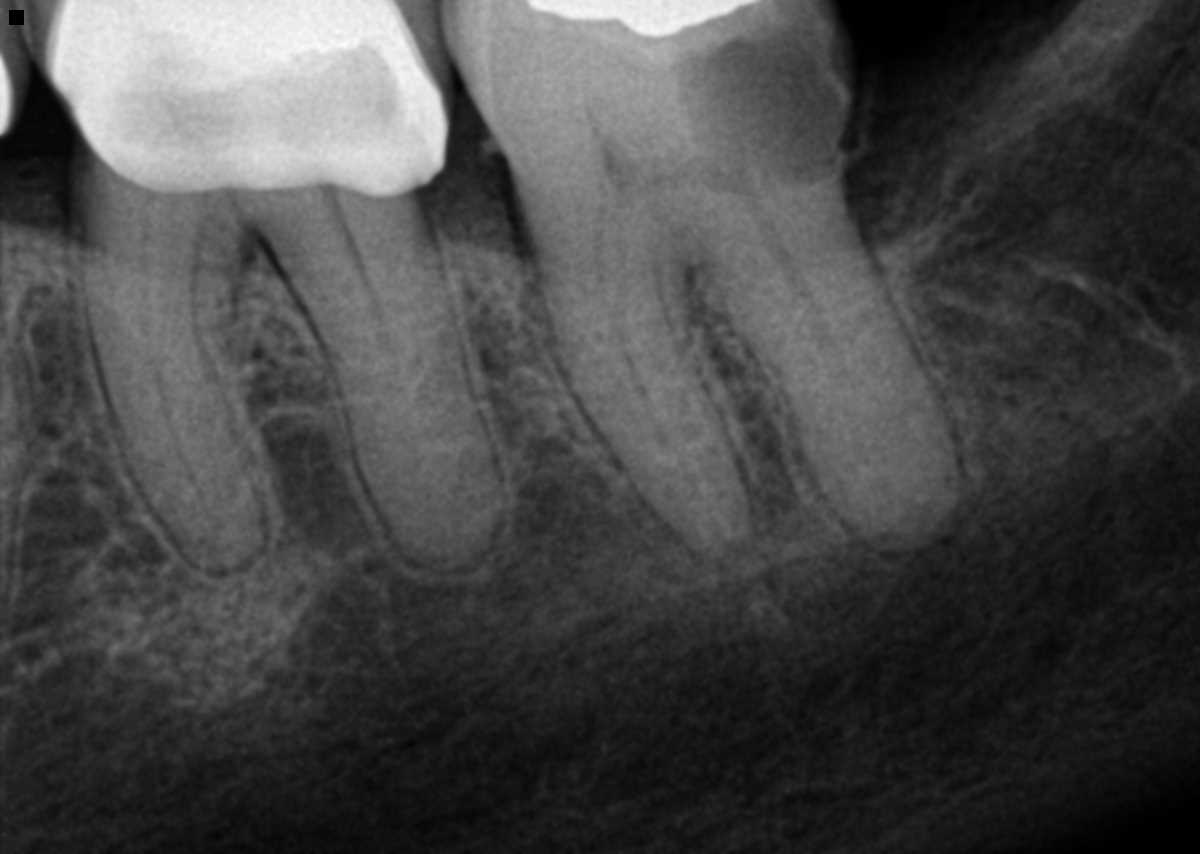Distal Canal: (332, 218, 426, 465)
Distal Root: (718, 202, 963, 556), (281, 204, 506, 570)
Mesial Canal: (141, 214, 230, 539), (594, 236, 678, 460)
Mesial Root: (539, 231, 753, 558), (76, 204, 262, 574)
decay: (672, 8, 847, 179)
